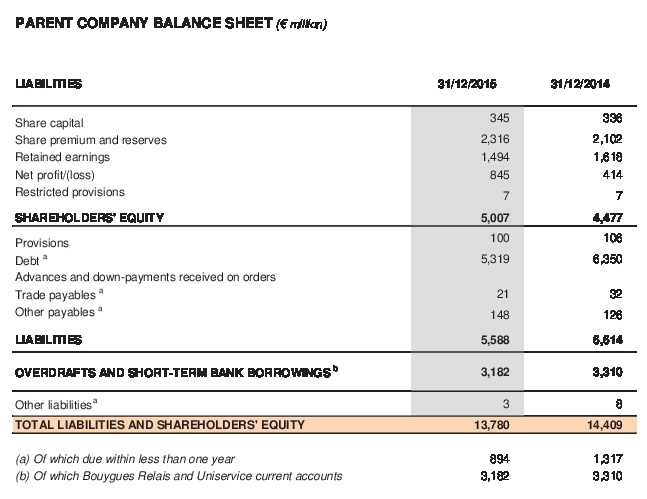table: (0, 0, 647, 499)
